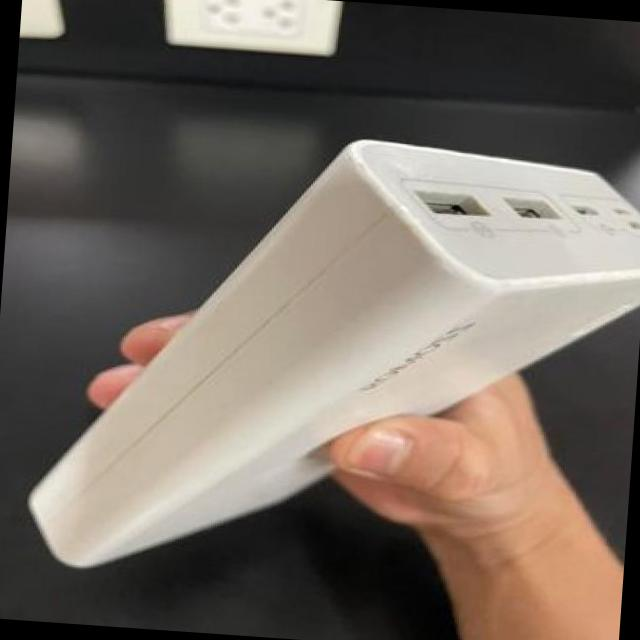portable-charger: (14, 99, 640, 610)
